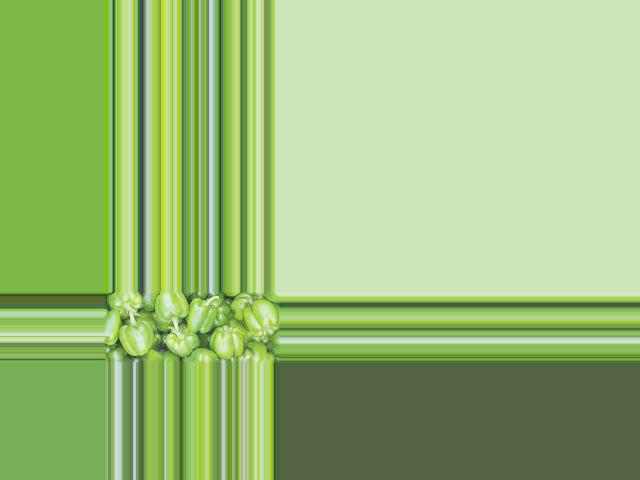bell_pepper: (106, 294, 279, 362)
